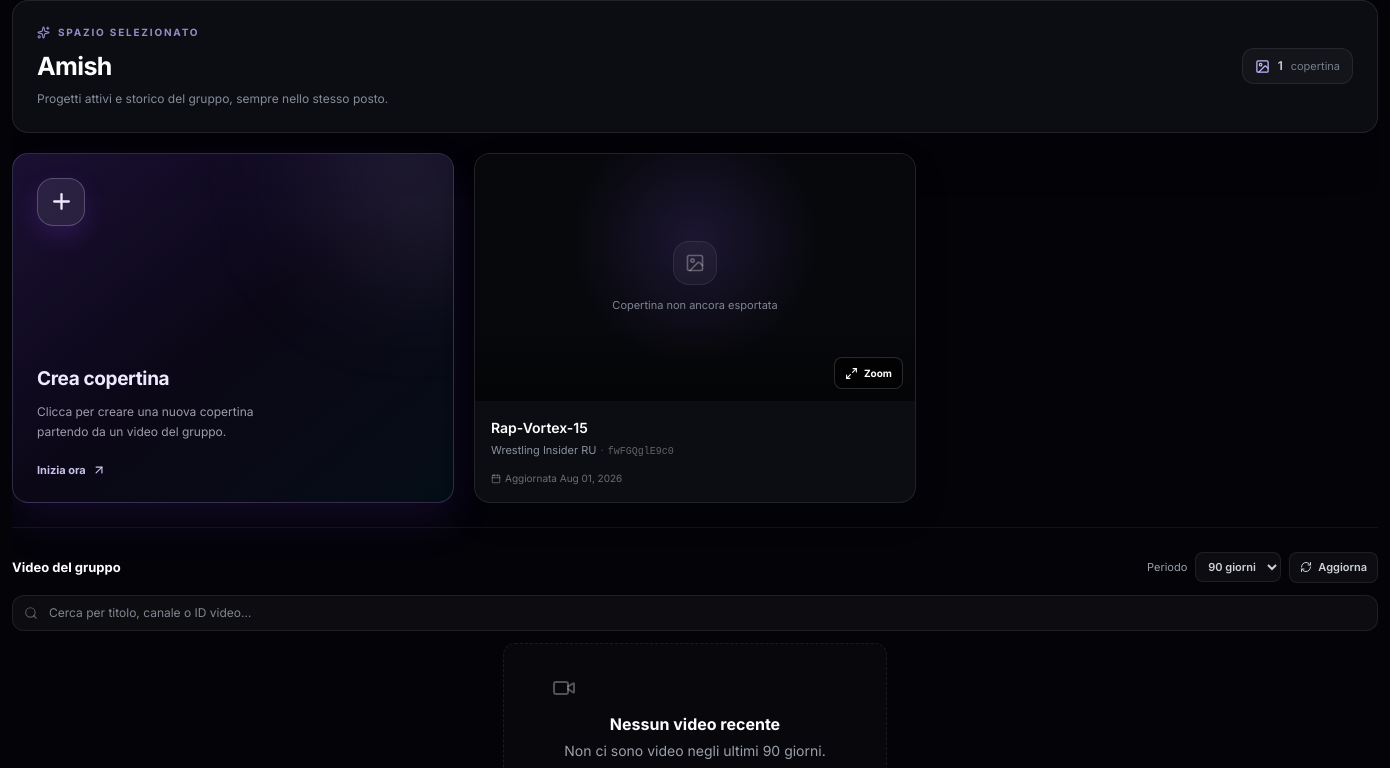
Test: GroupCovers › renames a cover inline: clicking the title PUTs the partial {title} to the draft endpoint and updates the card
The width and height of the screenshot is (1390, 768).
Expected: the number of elements with test id "group-cover-card" is 1, [474,152,916,503]
# Click the editable title → input appears with the current name.
Click the button with test id "cover-title-edit" at (539, 428), box [491,417,899,438]
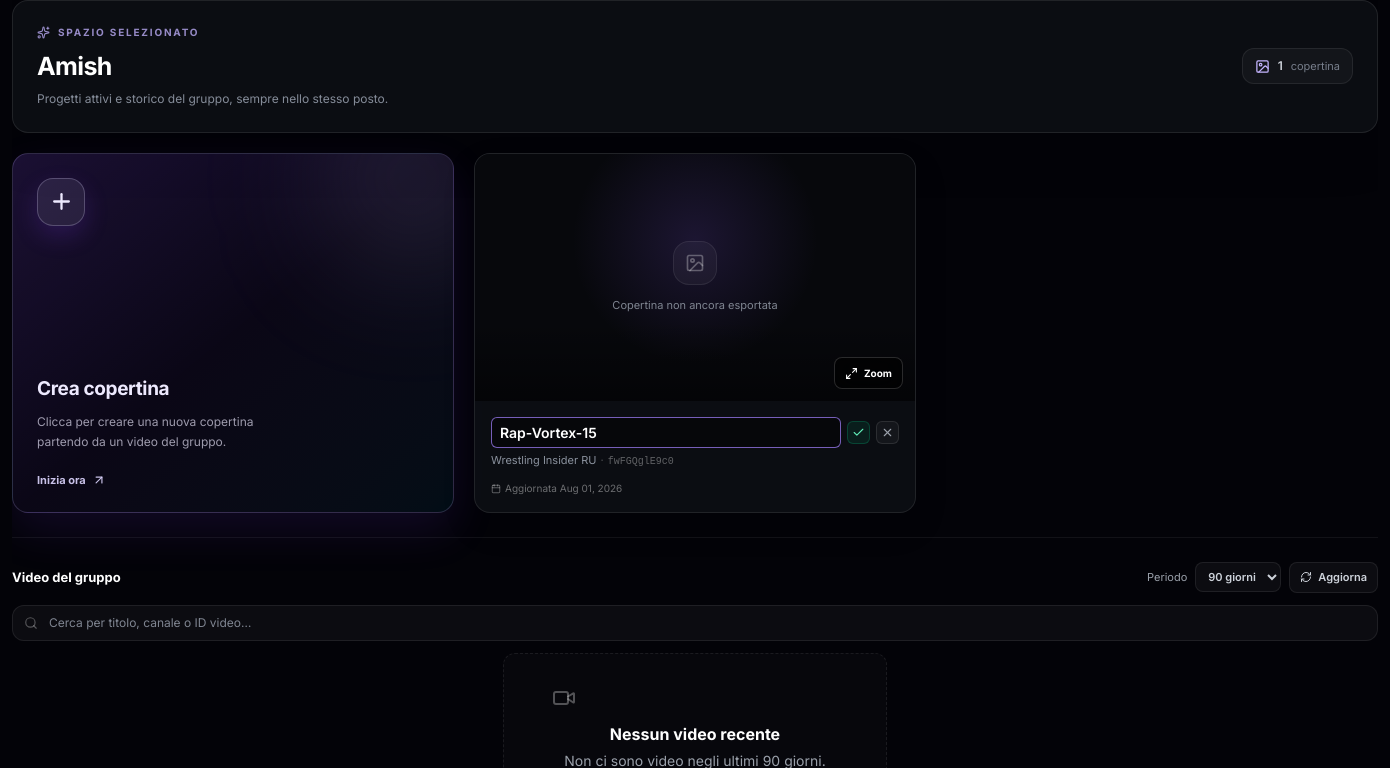
Expected: the field with test id "cover-title-input" holds "Rap-Vortex-15"
# Type the new name and commit (blur).
Replace the text in the field with test id "cover-title-input" with "Nuovo Nome Copertina" at (666, 432), box [491,417,841,448]
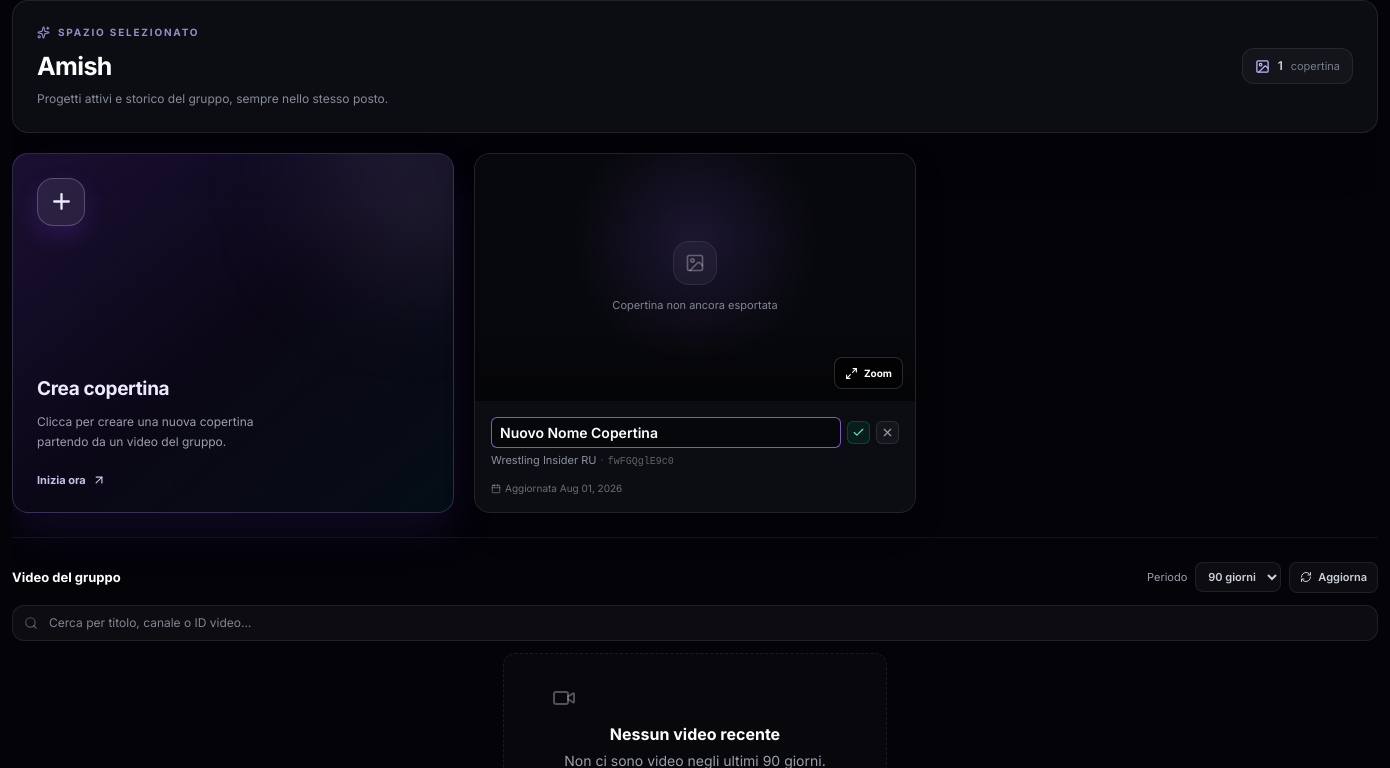
Leave the field with test id "cover-title-input", box [491,417,841,448]
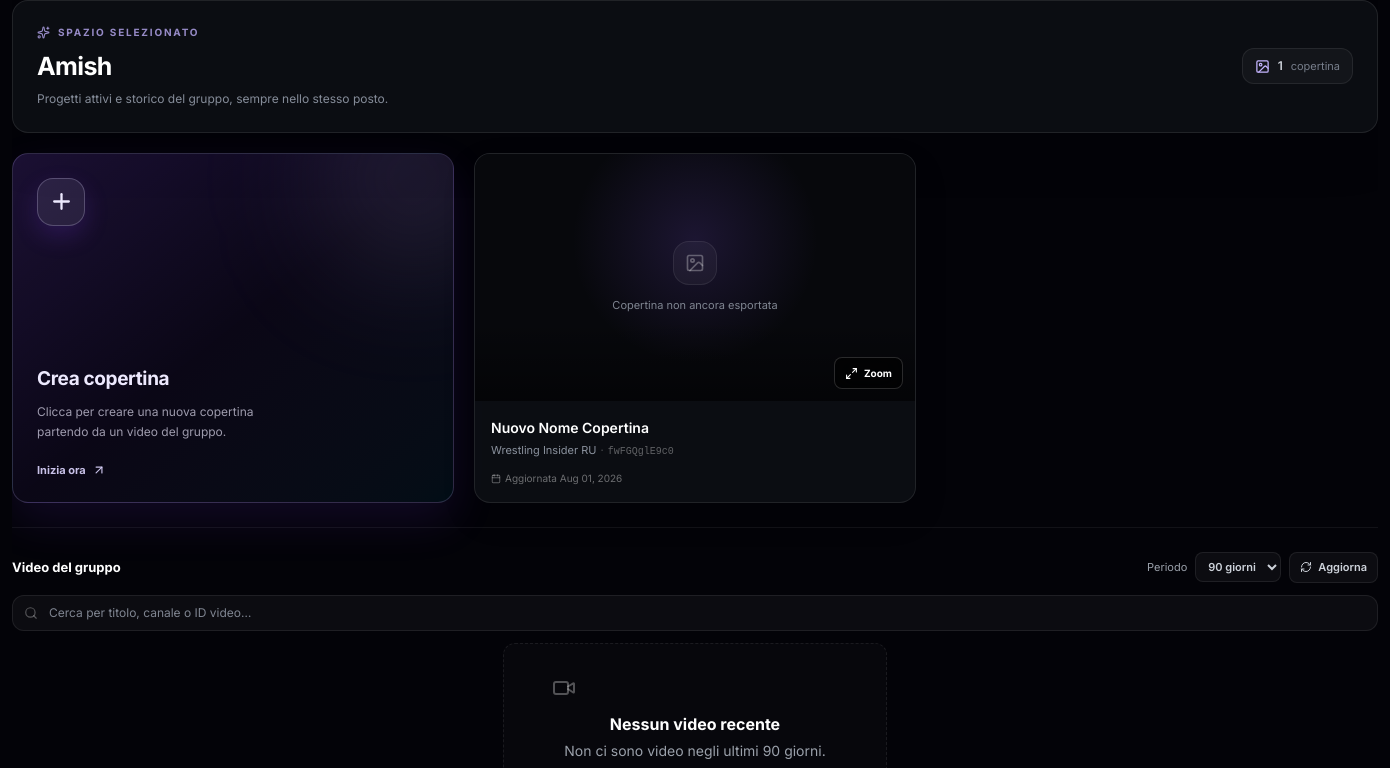
Expected: the text "Nuovo Nome Copertina" is shown, [491,417,649,438]
